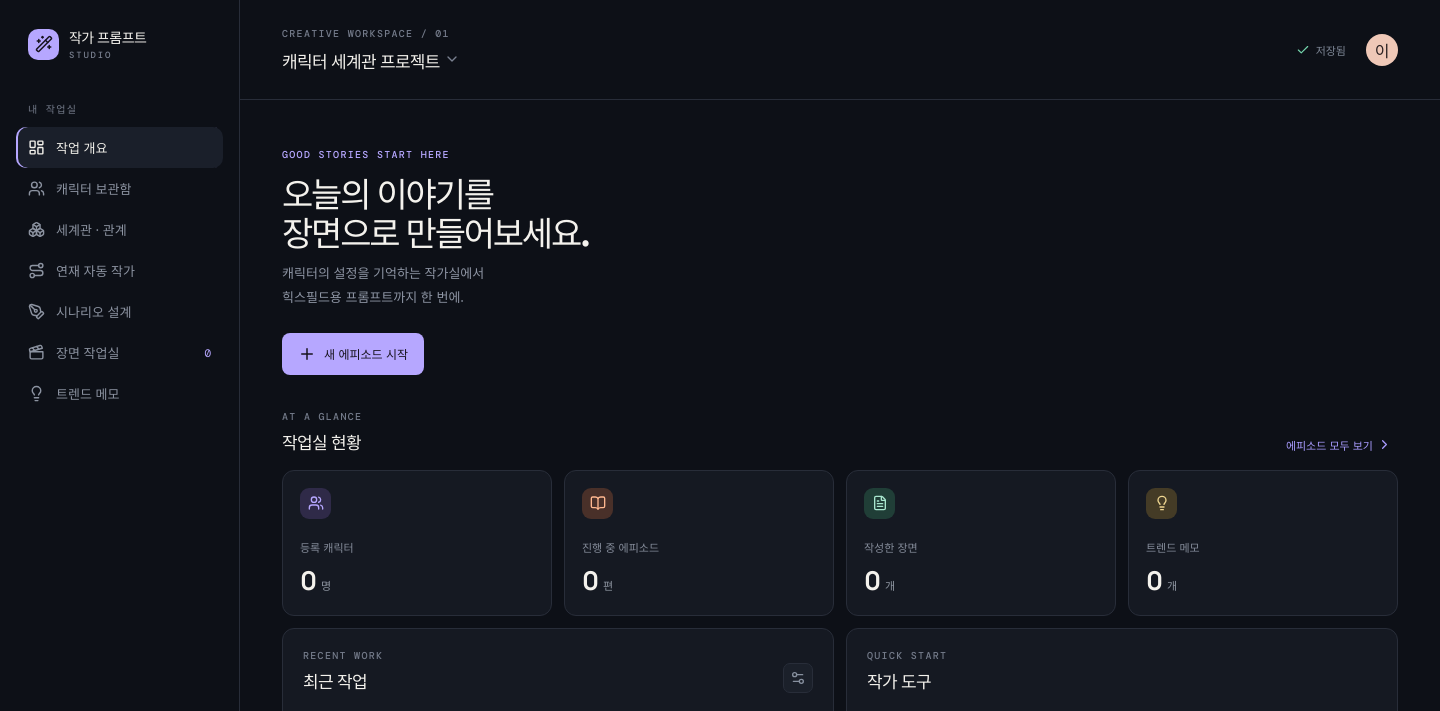
Test: 세계관 직장 설정 › 고정 회사·부서·직무를 별도 항목으로 표시한다
This screenshot has width=1440, height=711.
Step 1. Click the button "세계관 · 관계" → {"x": 120, "y": 230}, box [16, 209, 223, 250]
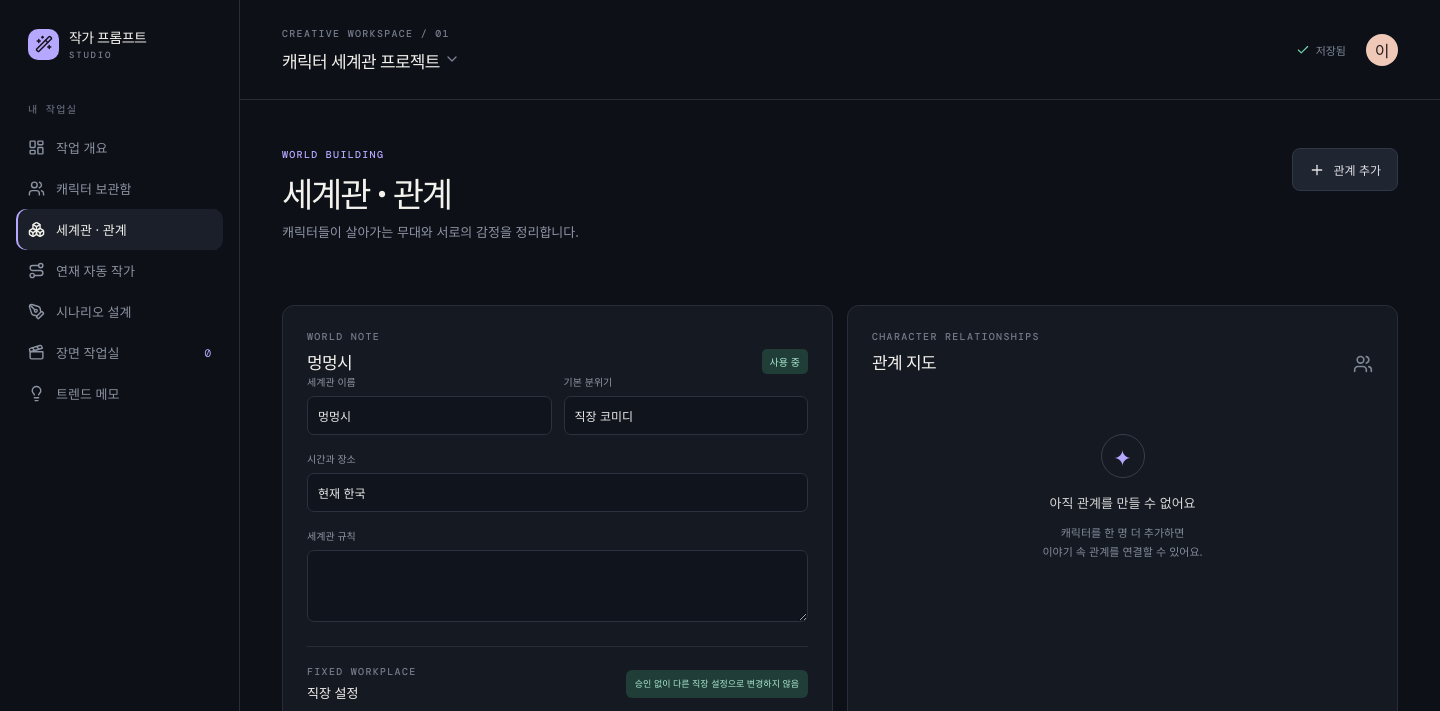
Expected: the text "승인 없이 다른 직장 설정으로 변경하지 않음" is shown, [626, 670, 808, 698]
